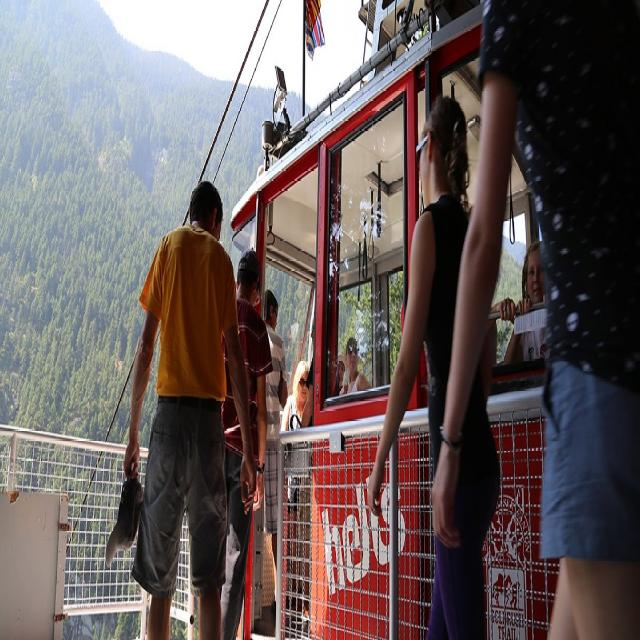body: (427, 0, 639, 638), (102, 173, 258, 639), (366, 94, 498, 636), (218, 245, 274, 639), (262, 288, 290, 616), (296, 314, 315, 629), (502, 239, 546, 367), (280, 359, 311, 431), (337, 336, 373, 396), (484, 286, 516, 332), (336, 351, 348, 391)
